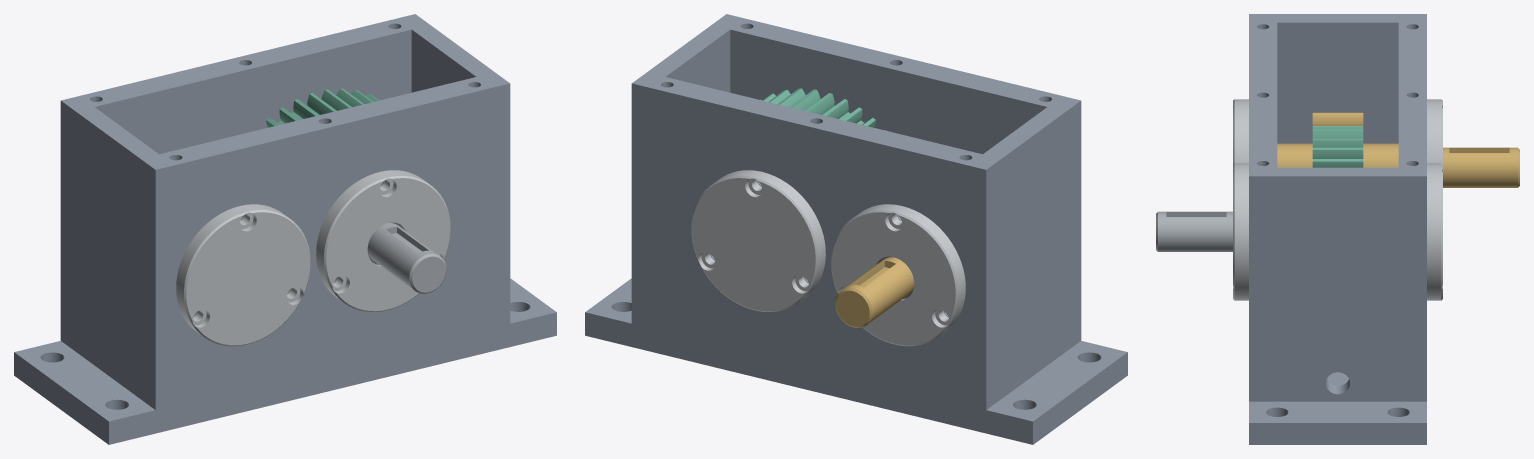
The model's file is step_27.glb.
3 renders of one model, left to right at view 1: azimuth 30°, elevation 25°; view 2: azimuth 150°, elevation 25°; view 3: azimuth 270°, elevation 25°, orthographic. The views are drawn at different scales.
Visible parts, largest first — view 1: part__gearbox housing, part__blind cap (input), part__through cap (output), part__output shaft, part__gear wheel; view 2: part__gearbox housing, part__blind cap (output), part__through cap (input), part__input pinion shaft, part__gear wheel; view 3: part__gearbox housing, part__input pinion shaft, part__output shaft, part__through cap (output), part__blind cap (output), part__gear wheel, part__through cap (input), part__blind cap (input).
Part boxes in pixels (box(x1,y1,x2,y2)): part__gearbox housing: box(14, 14, 556, 444); part__blind cap (input): box(176, 204, 310, 346); part__through cap (output): box(316, 170, 450, 312); part__output shaft: box(367, 223, 446, 293); part__gear wheel: box(256, 88, 381, 130); part__gearbox housing: box(585, 14, 1127, 444); part__blind cap (output): box(691, 170, 825, 312); part__through cap (input): box(831, 204, 965, 346); part__input pinion shaft: box(835, 257, 914, 327); part__gear wheel: box(760, 88, 885, 130); part__gearbox housing: box(1249, 14, 1426, 444); part__input pinion shaft: box(1277, 112, 1519, 187); part__output shaft: box(1156, 211, 1232, 251); part__through cap (output): box(1233, 163, 1248, 300); part__blind cap (output): box(1427, 163, 1442, 300); part__gear wheel: box(1312, 126, 1363, 167); part__through cap (input): box(1427, 99, 1442, 164); part__blind cap (input): box(1233, 99, 1248, 164).
Size of the model in its own units: 240 by 135 by 180.
